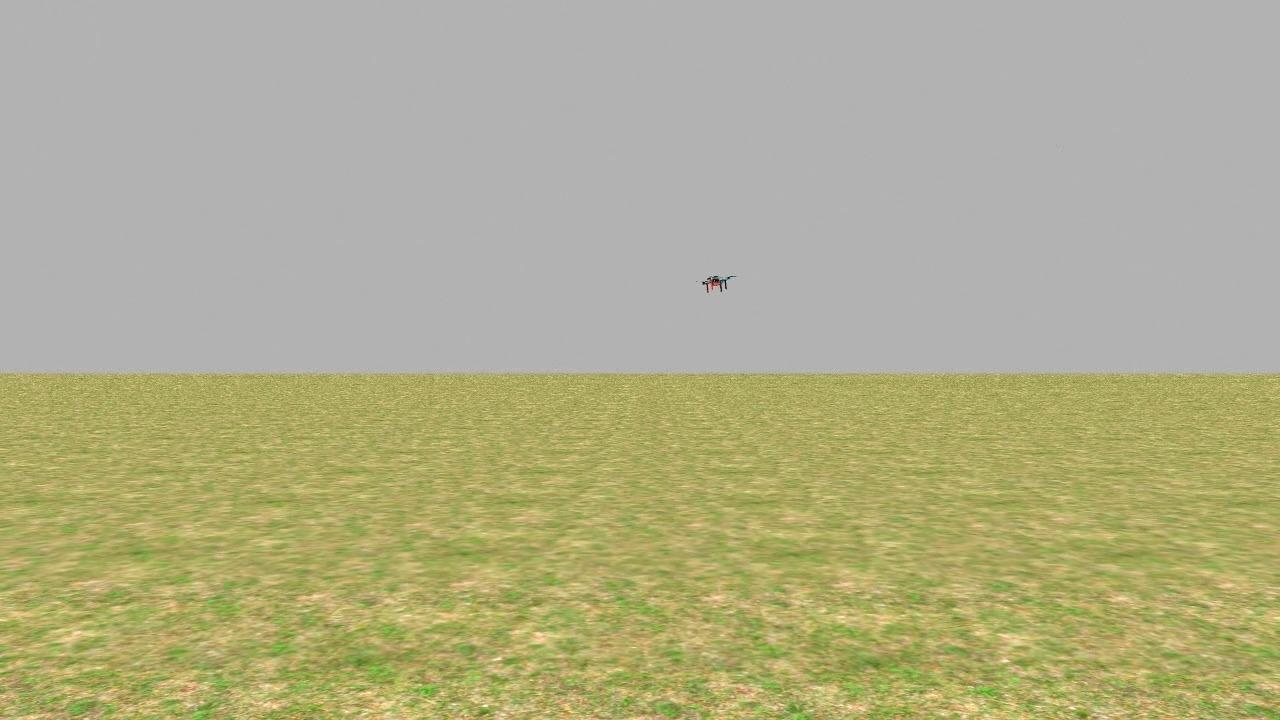UAV: (695, 266, 739, 304)
